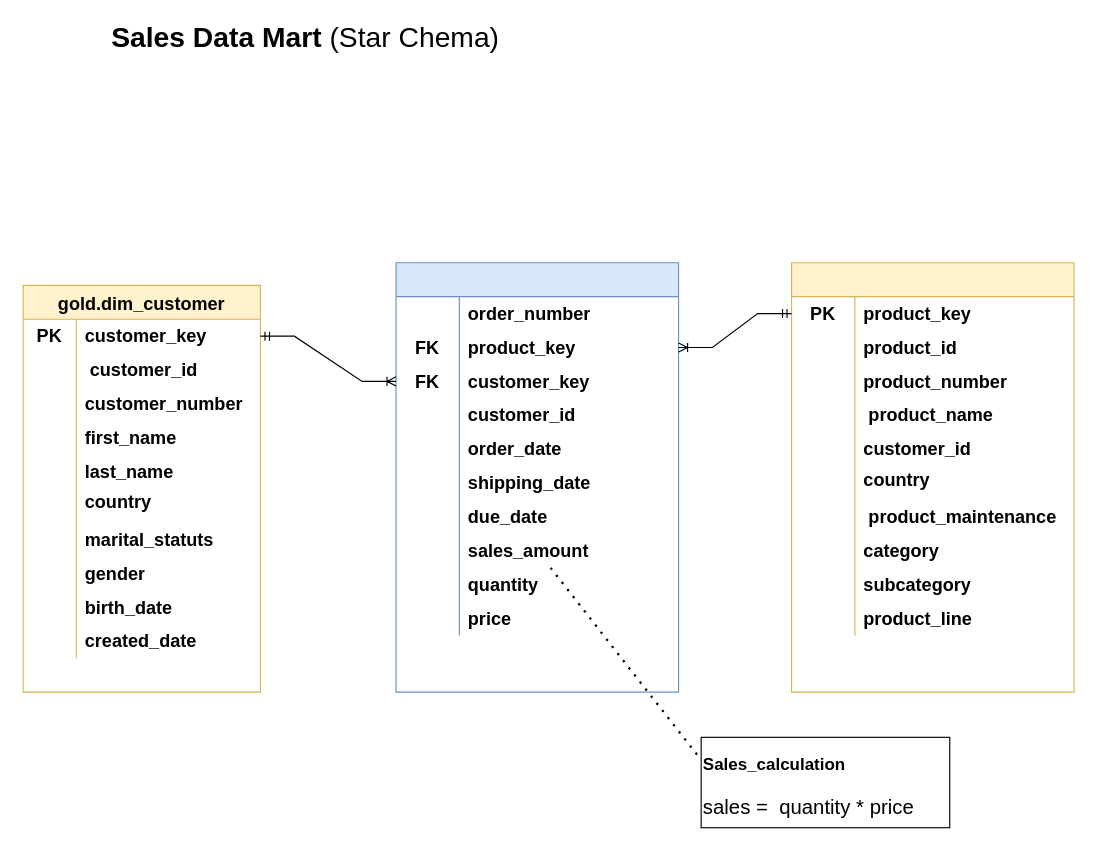
Some shapes in this 1096 by 850 pixel diagram are drawn without their labels. The box of each missing label's shape, as (x1, y1, x2, y2) in pixels:
gold.dim_product: (790, 262, 1074, 692)
gold.fact_sales: (395, 262, 679, 692)
